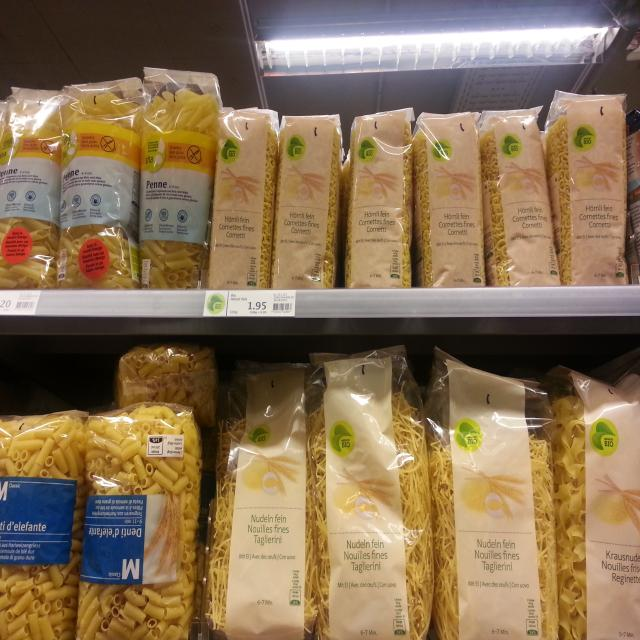Pasta: (426, 344, 558, 640), (311, 343, 434, 640), (208, 352, 319, 640), (80, 404, 200, 640), (545, 363, 640, 639), (0, 411, 87, 640), (138, 66, 223, 288), (59, 74, 140, 292), (543, 93, 628, 287), (478, 107, 559, 285), (207, 109, 279, 291), (342, 106, 413, 288), (413, 113, 486, 290), (0, 88, 62, 286), (272, 114, 340, 289)
